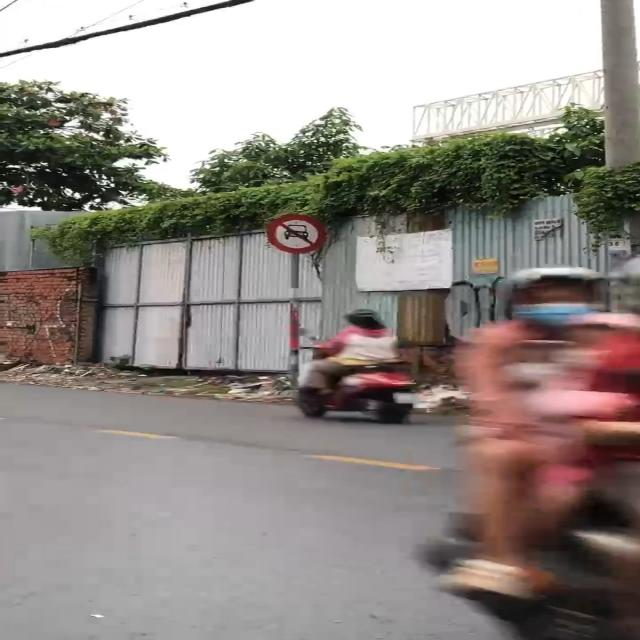Bien bao cam xe oto: (264, 211, 337, 250)
